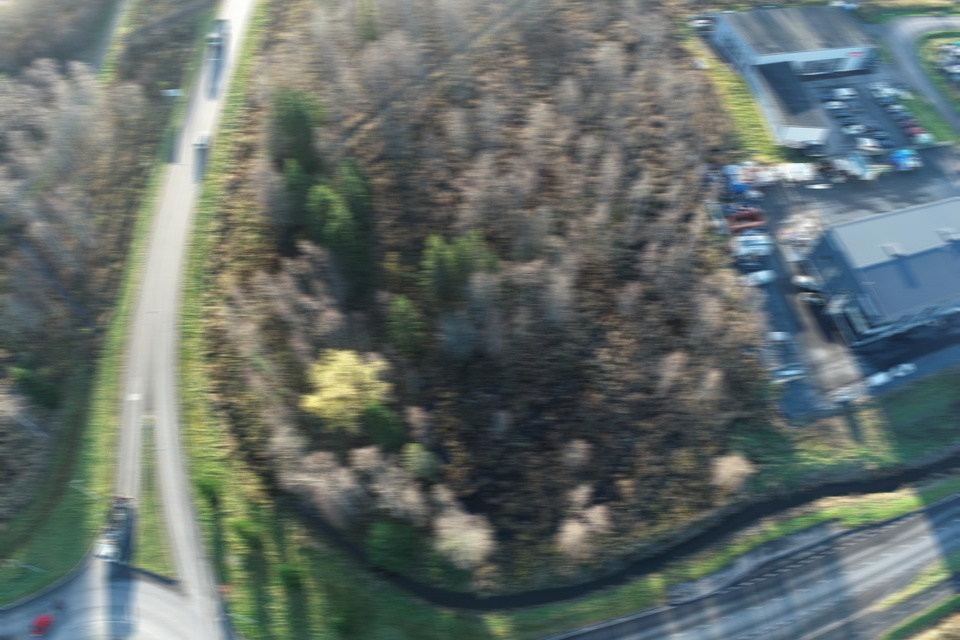roundabout: (0, 501, 303, 640)
